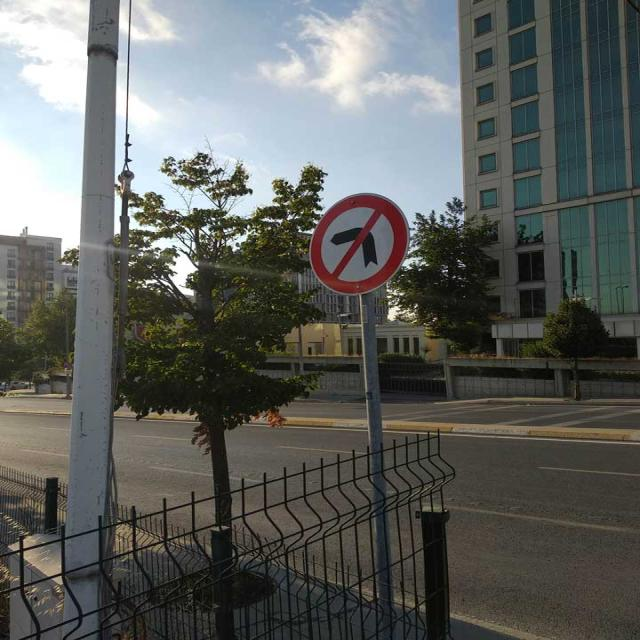soladonulmez: (308, 192, 408, 296)
